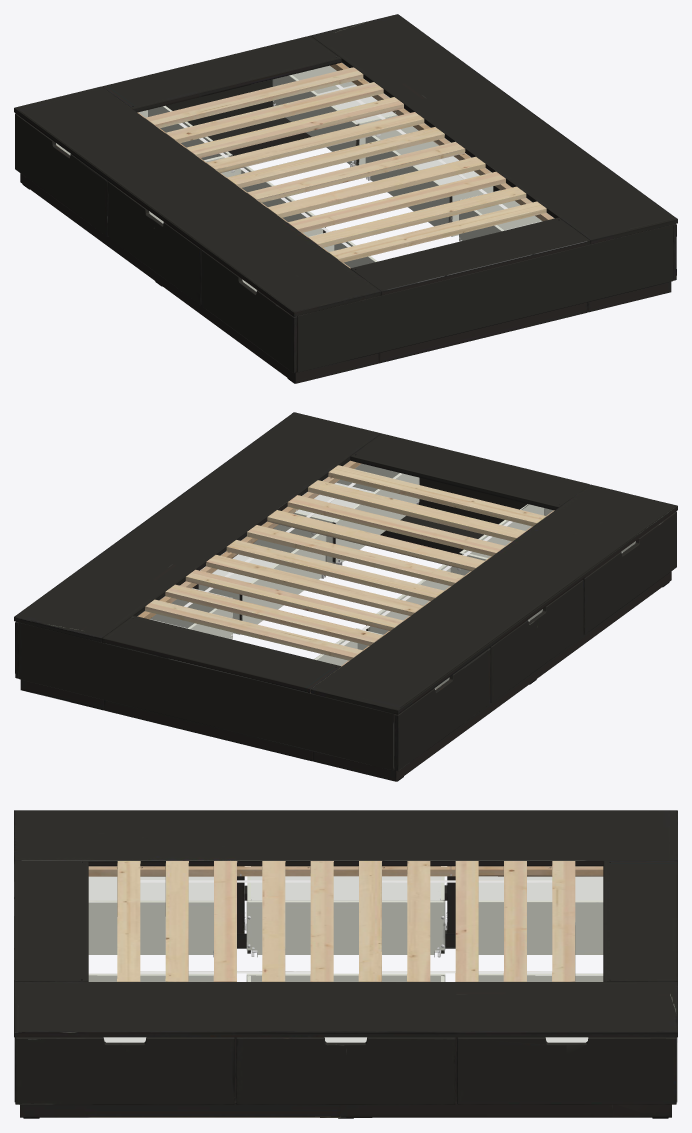
The model's file is NORDLI_50372781.glb.
The picture shows the model from 3 angles, top to bottom: view 1: azimuth 30°, elevation 25°; view 2: azimuth 150°, elevation 25°; view 3: azimuth 270°, elevation 25°; orthographic projection. The views are drawn at different scales.
Parts seen in each view (by area): view 1: model; view 2: model; view 3: model.
Boxes of the visible parts, x1,y1,x2,y2 form: model: (14, 14, 677, 383); model: (14, 412, 677, 781); model: (14, 810, 677, 1118).
Size of the model in its own units: 1.6 by 0.301 by 2.02.
1 material, 1 textured.
